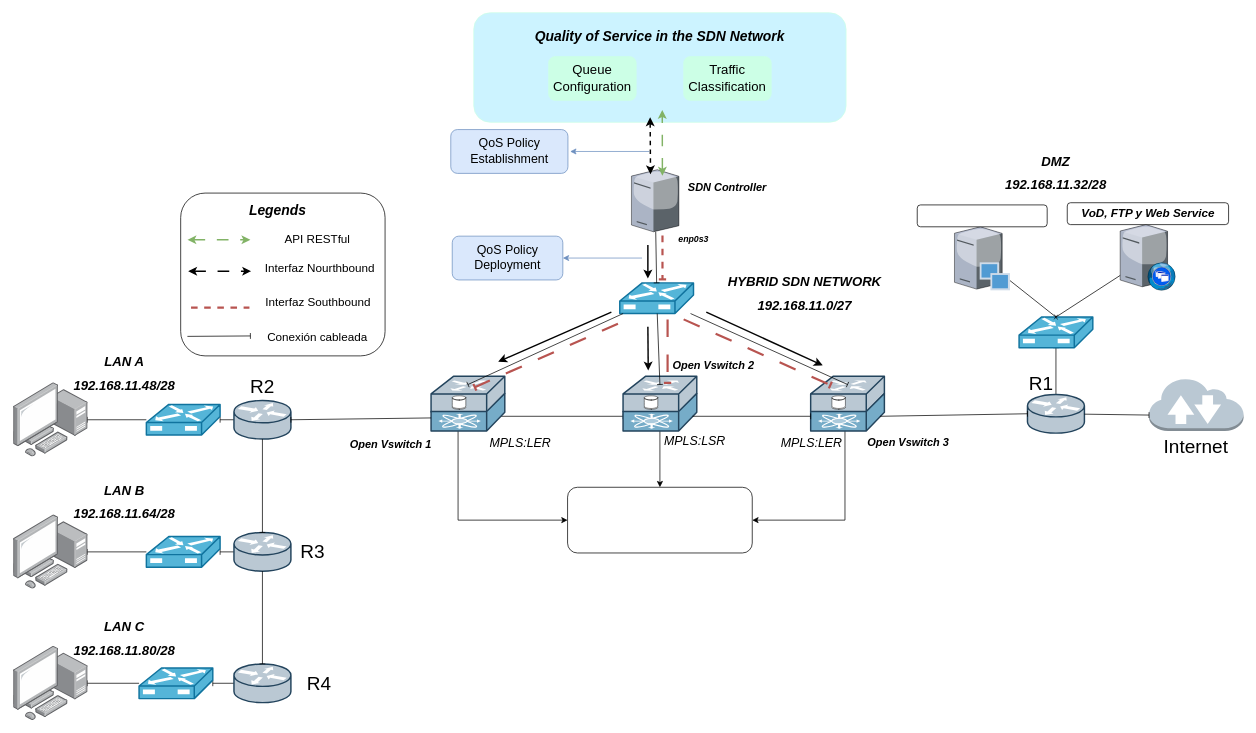
Some shapes in this 1256 by 733 pixel diagram are drawn without their labels. Each missing label, with the centre of its shape:
Queues to Ensure Traffic: VoIP | VoD FTP | Web: [659,520]
VoIP Service: [982,215]
